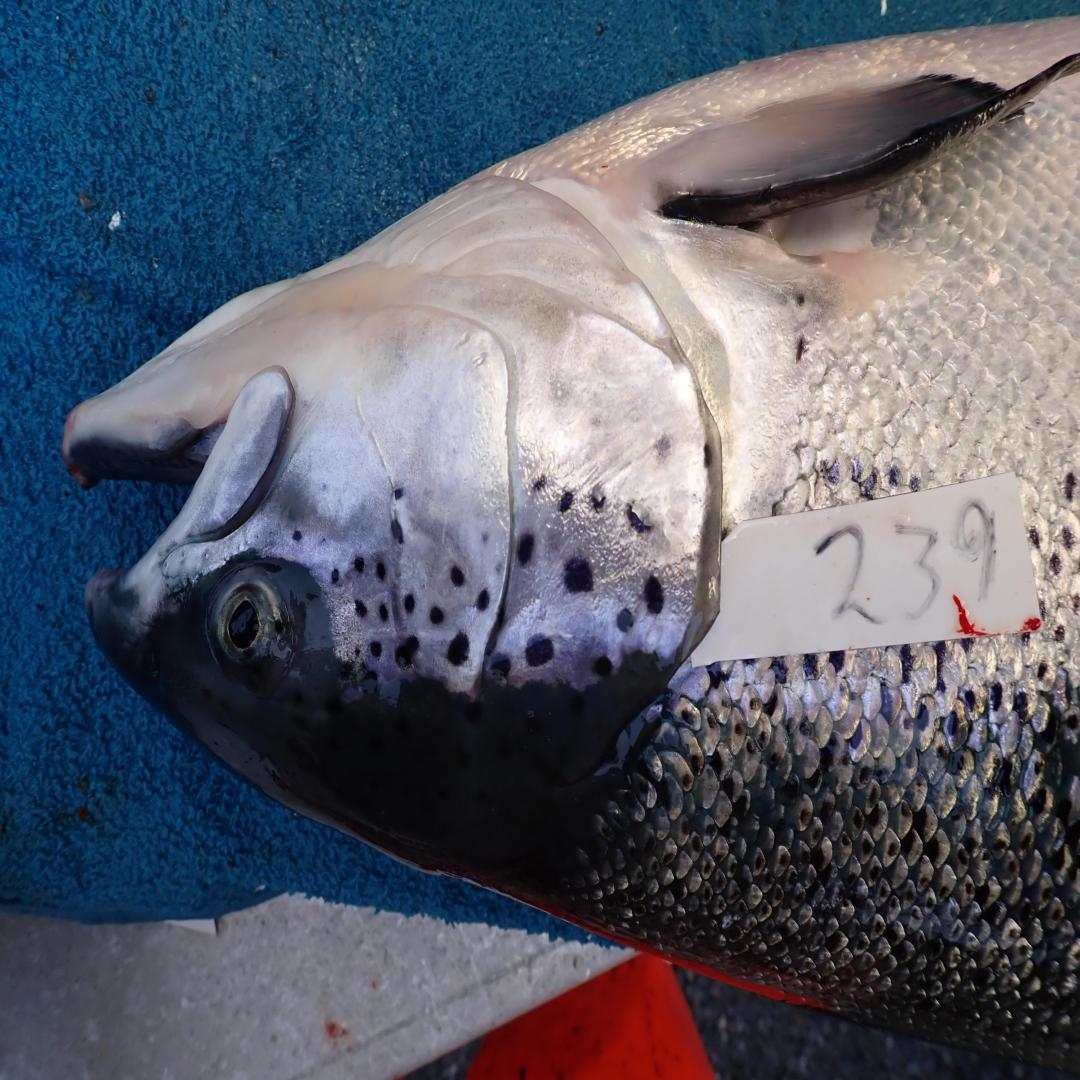spot: (565, 557, 593, 593), (525, 636, 555, 667), (394, 636, 420, 669), (626, 501, 652, 532), (643, 577, 664, 613), (447, 633, 468, 667), (654, 433, 673, 461), (517, 534, 534, 565), (489, 655, 510, 678), (593, 655, 612, 678), (616, 608, 633, 633), (591, 484, 605, 512), (449, 565, 464, 588), (559, 489, 574, 512), (390, 520, 403, 543), (403, 593, 416, 613), (430, 605, 443, 624), (532, 475, 546, 492), (477, 591, 489, 610), (354, 599, 367, 616), (369, 641, 382, 658), (703, 441, 711, 468), (376, 561, 386, 580), (354, 557, 365, 574), (392, 487, 405, 501), (378, 603, 388, 621), (331, 568, 340, 584), (293, 529, 302, 543), (481, 533, 488, 543), (354, 647, 360, 658), (496, 564, 501, 573)
